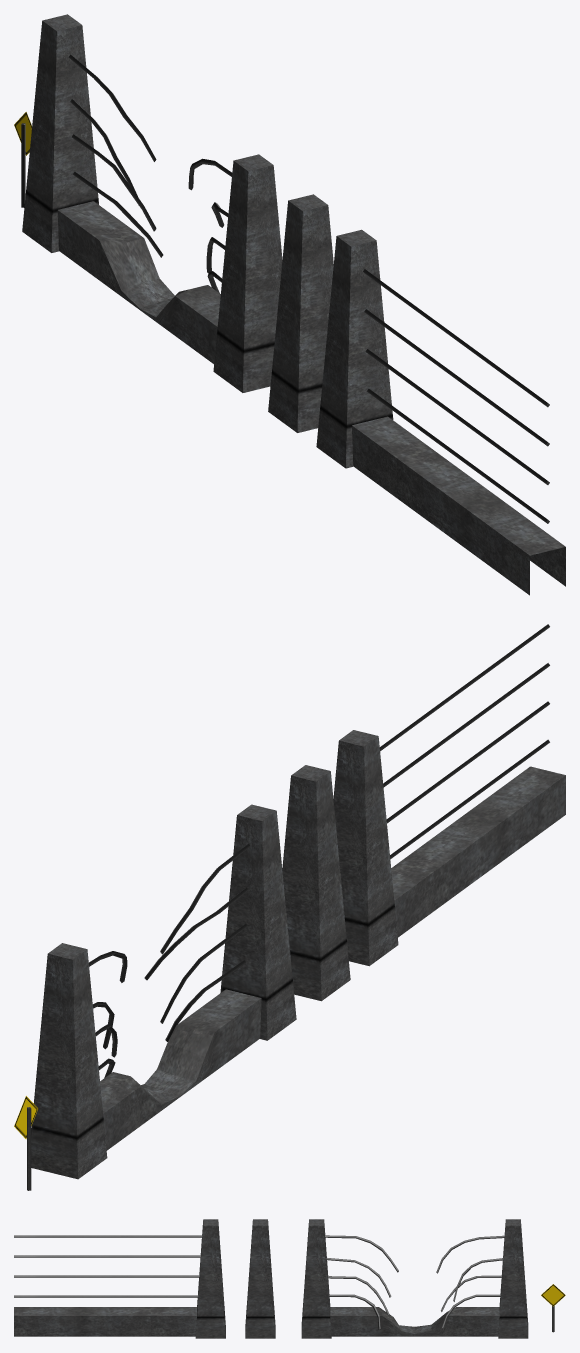
The model's file is fences.fbx.
3 views of the same model, one above another, from view 1: azimuth 30°, elevation 25°; view 2: azimuth 150°, elevation 25°; view 3: azimuth 270°, elevation 25° (orthographic). The views are drawn at different scales.
Parts seen in each view (by area): view 1: Broken Fence, Fence, Post, Xing_Sign; view 2: Broken Fence, Fence, Post, Xing_Sign; view 3: Broken Fence, Fence, Post, Xing_Sign.
Part boxes in pixels (box(x1,y1,x2,y2)): Broken Fence: box(22, 14, 282, 392); Fence: box(316, 229, 565, 595); Post: box(268, 194, 333, 432); Xing_Sign: box(14, 112, 31, 207); Broken Fence: box(31, 804, 296, 1179); Fence: box(333, 624, 565, 966); Post: box(282, 765, 350, 1001); Xing_Sign: box(14, 1096, 37, 1190); Broken Fence: box(301, 1219, 528, 1338); Fence: box(14, 1219, 225, 1338); Post: box(245, 1219, 275, 1338); Xing_Sign: box(541, 1284, 565, 1332).
Bounding box in the file's own units: 266 × 801 × 3653.
